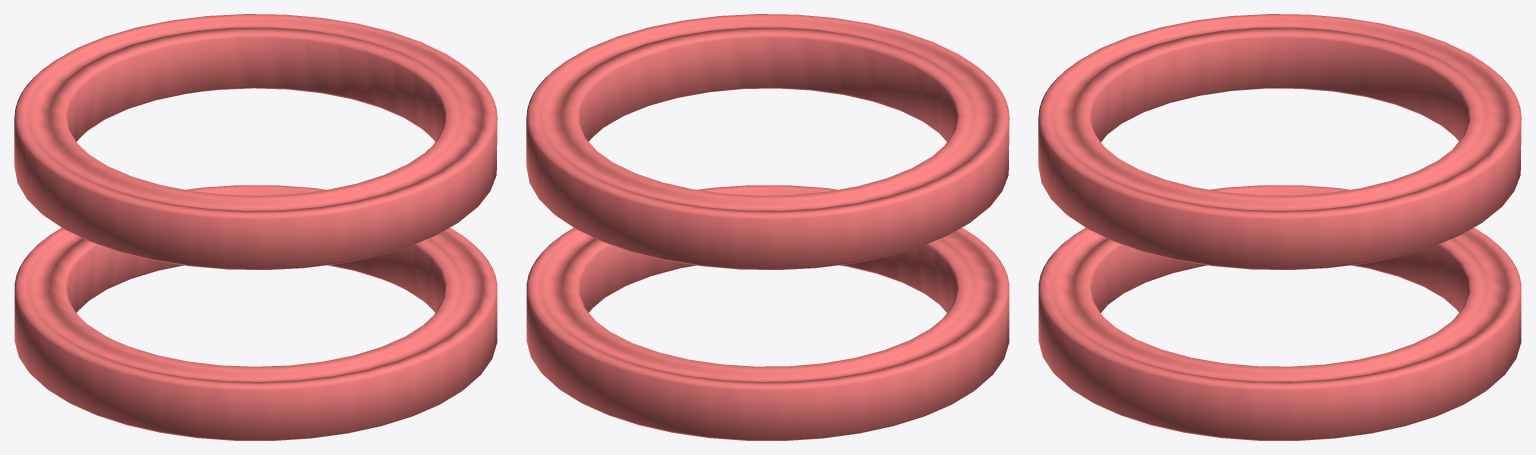
Rendered from solo12_hip_fe_fl_0.obj.
3 views of the same model, side by side, from view 1: azimuth 30°, elevation 25°; view 2: azimuth 150°, elevation 25°; view 3: azimuth 270°, elevation 25° (orthographic).
Bounding box in the file's own units: 0.032 × 0.0165 × 0.032.
